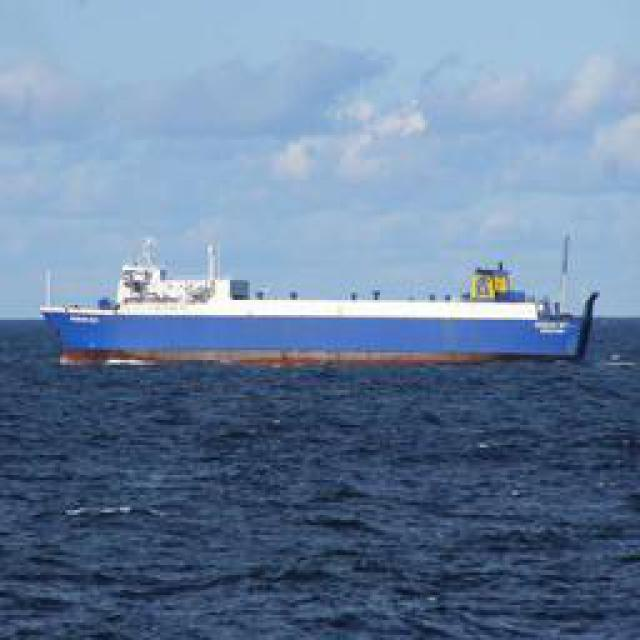Ship: (41, 243, 599, 368)
